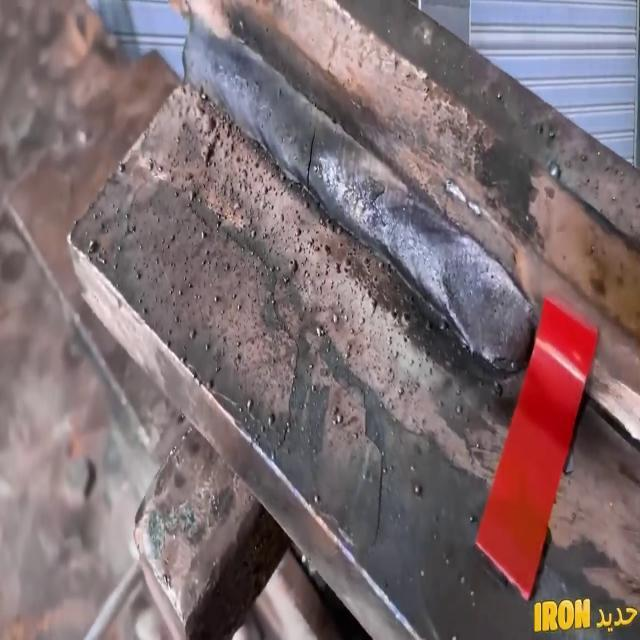Bad Welding: (184, 18, 536, 371)
